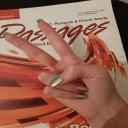PeaceSign: (2, 17, 120, 123)
